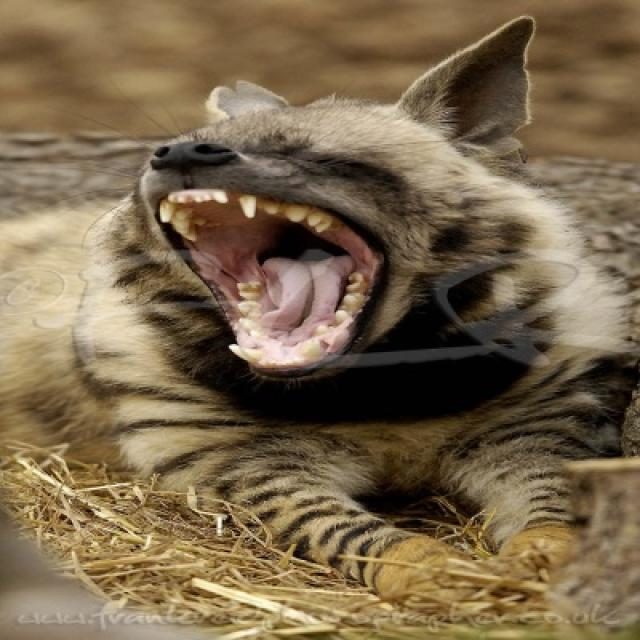hyena: (2, 18, 621, 594)
